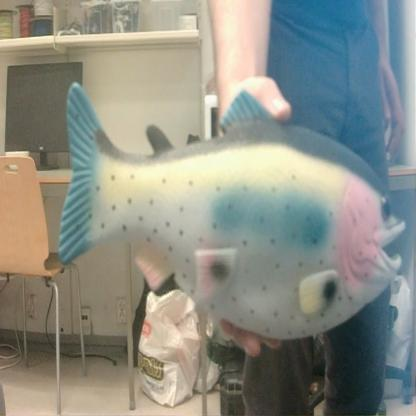rubberfish: (56, 74, 410, 344)
